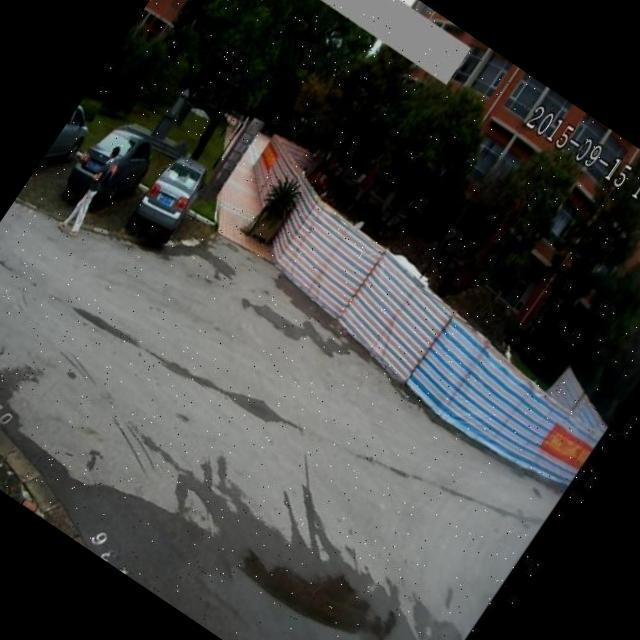person: (53, 140, 134, 243)
